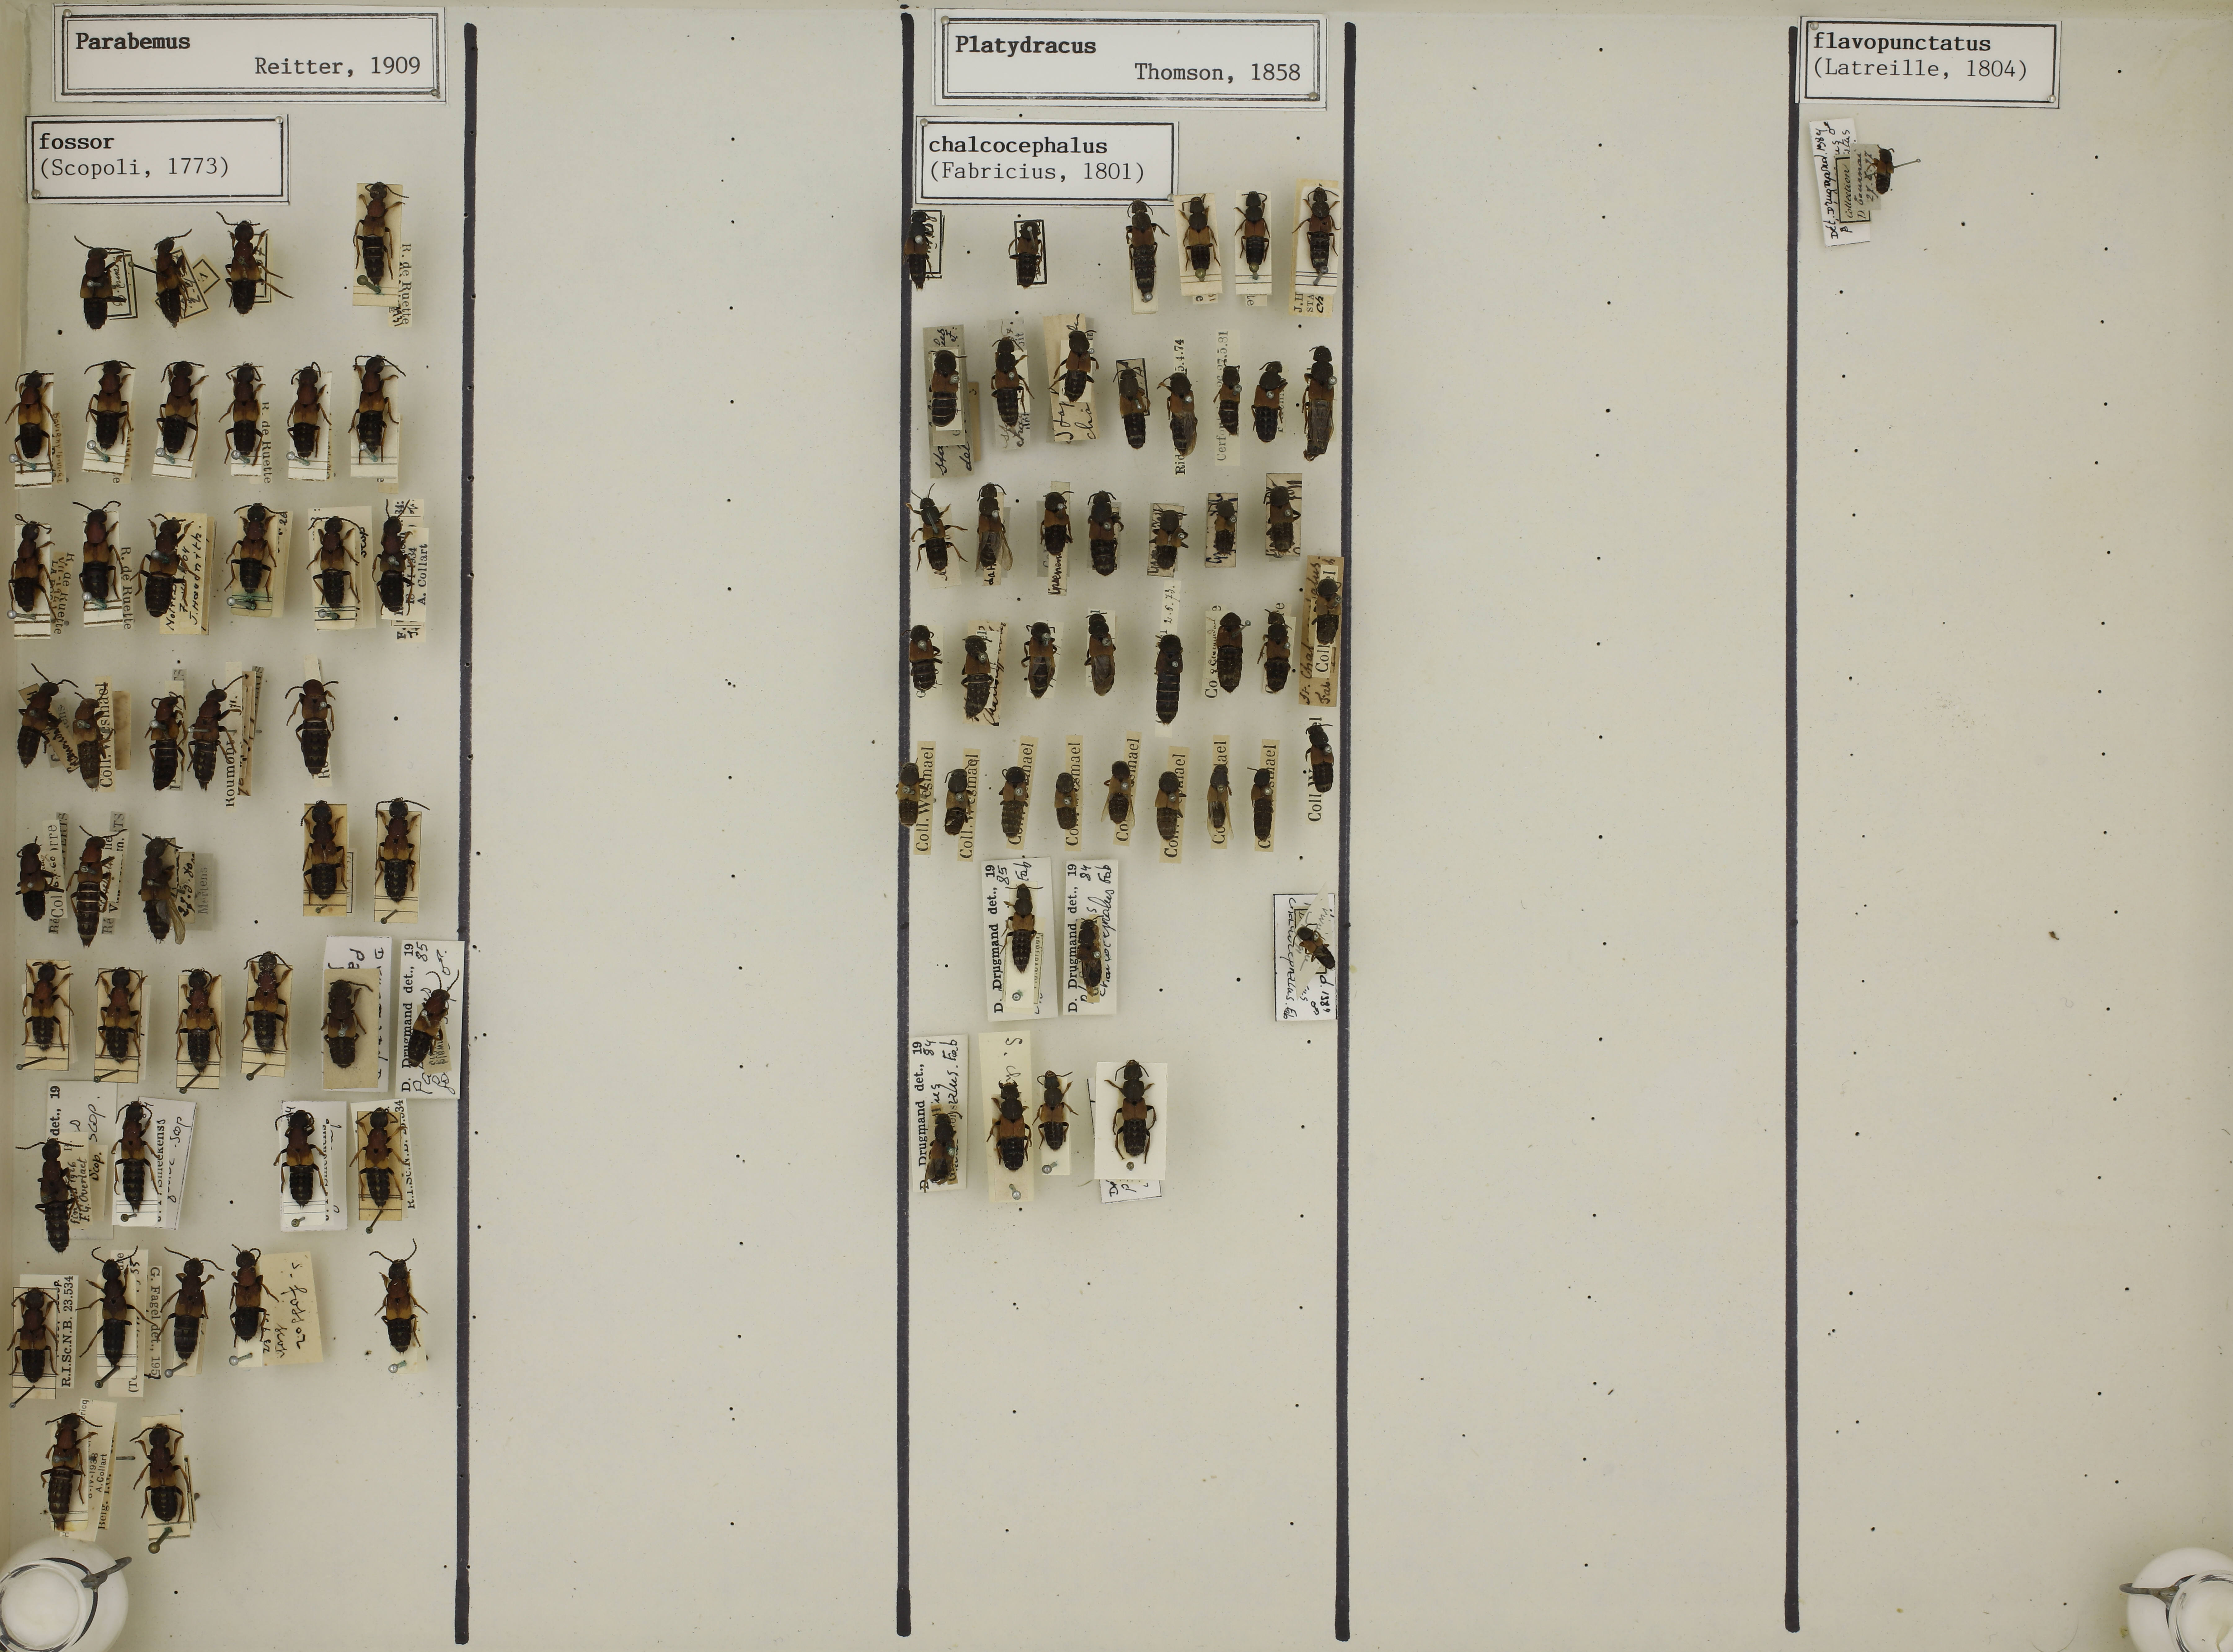insect: (80, 1246, 154, 1373), (16, 1135, 88, 1260), (36, 1413, 108, 1534), (215, 210, 293, 319), (368, 1237, 432, 1360), (160, 1246, 226, 1366), (128, 1416, 200, 1524), (224, 503, 285, 618), (191, 673, 248, 795), (137, 512, 200, 621), (68, 824, 123, 946), (219, 1241, 279, 1350), (108, 1097, 161, 1218), (350, 354, 408, 467), (305, 514, 364, 623), (272, 1107, 331, 1216), (399, 968, 460, 1074), (1103, 1057, 1161, 1168), (371, 795, 430, 902), (69, 498, 125, 609), (904, 484, 968, 580), (16, 663, 76, 764), (239, 949, 295, 1059), (7, 371, 64, 477), (352, 1107, 409, 1209), (352, 182, 408, 286), (174, 961, 222, 1079), (135, 831, 186, 944), (285, 677, 342, 776), (370, 502, 418, 616), (298, 802, 350, 908), (73, 238, 128, 335), (94, 968, 149, 1065), (154, 361, 206, 463), (10, 512, 57, 621), (321, 977, 377, 1069), (1123, 200, 1171, 300), (142, 691, 189, 795), (21, 958, 71, 1053), (285, 361, 331, 463), (10, 1284, 57, 1387), (1051, 319, 1102, 413), (82, 357, 134, 448), (224, 361, 267, 469), (1296, 182, 1339, 283), (1298, 345, 1334, 463), (14, 833, 59, 927), (1001, 880, 1046, 974), (153, 229, 196, 326), (989, 335, 1032, 430), (975, 481, 1017, 580), (991, 1078, 1032, 1175), (1232, 189, 1275, 279), (75, 682, 111, 788), (921, 345, 966, 430), (1178, 196, 1221, 283), (1157, 373, 1201, 456), (1110, 366, 1152, 451), (1036, 1071, 1077, 1156), (1086, 489, 1123, 580), (1256, 609, 1293, 696), (1074, 916, 1110, 1003), (1211, 613, 1247, 698), (1152, 635, 1185, 729), (925, 1109, 963, 1189), (1263, 482, 1303, 557), (1253, 359, 1287, 444), (1081, 614, 1116, 699), (1022, 621, 1058, 701), (1006, 215, 1046, 286), (1150, 505, 1190, 574), (959, 635, 991, 724), (1294, 916, 1339, 977), (1301, 722, 1338, 797), (906, 621, 942, 694), (1312, 576, 1346, 647), (1152, 770, 1187, 842), (1246, 765, 1279, 840), (904, 208, 933, 292), (1039, 488, 1072, 560), (1213, 363, 1244, 439), (999, 765, 1031, 838), (1204, 762, 1235, 835), (894, 760, 927, 828), (942, 767, 972, 840), (1103, 760, 1135, 824), (1869, 142, 1902, 200), (1053, 772, 1083, 835), (1208, 495, 1235, 560)
